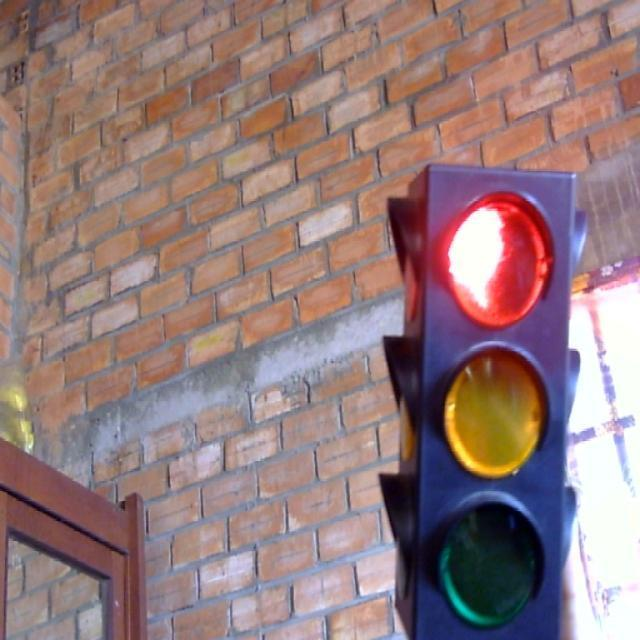red_light: (392, 160, 576, 640)
